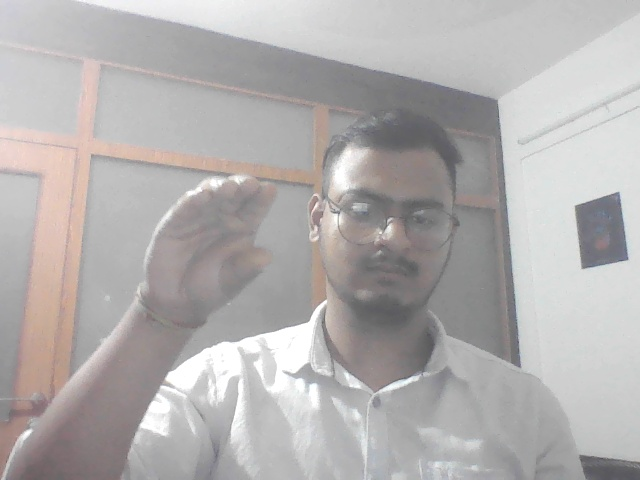NO: (139, 169, 286, 332)
